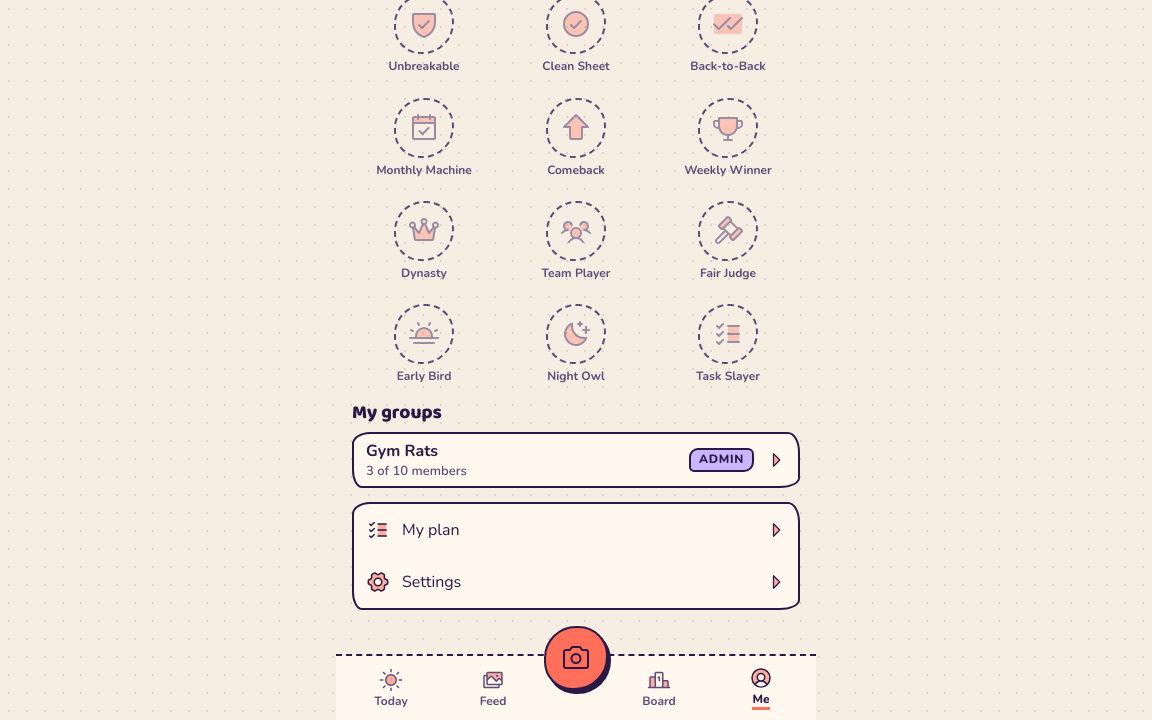
Test case: Settings › Me links to Settings; back returns to Me
Later steps or results of the test are not shown.
(page scrolled)
Click the link "Settings": (432, 582) [366, 570, 786, 594]
(page scrolled)
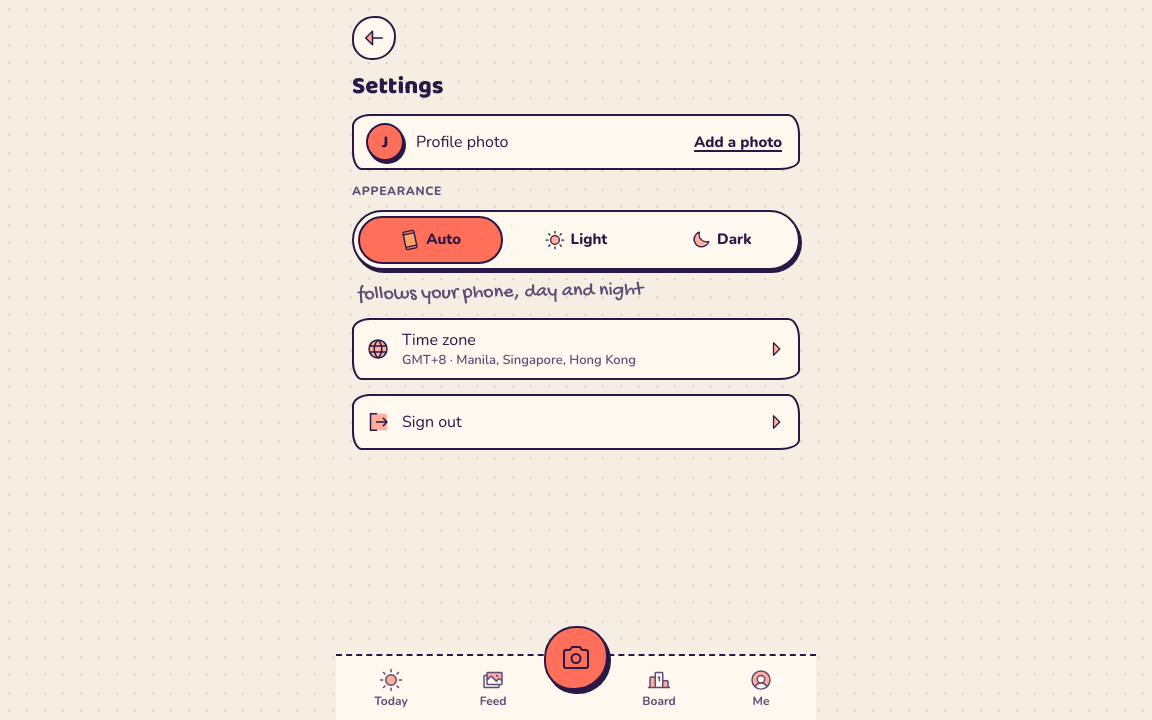
Check: the heading "Settings" is shown, box [352, 67, 444, 106]
